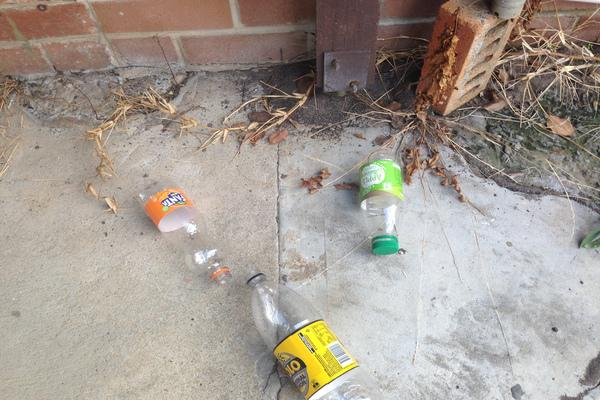Plastic Bottle: (245, 272, 383, 399), (138, 175, 231, 285), (361, 153, 401, 256)
